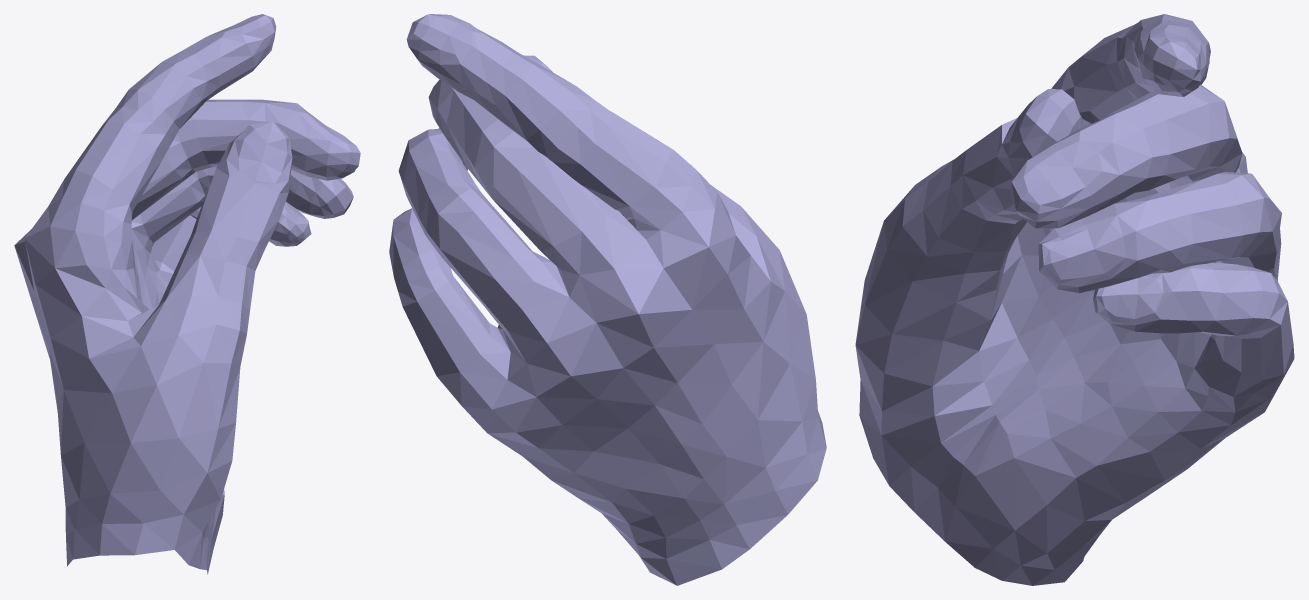
File: frame_0044_source_000044_hand.glb
The picture shows the model from 3 angles, left to right: view 1: azimuth 30°, elevation 25°; view 2: azimuth 150°, elevation 25°; view 3: azimuth 270°, elevation 25°; orthographic projection. The views are drawn at different scales.
Visible parts, largest first — view 1: world; view 2: world; view 3: world.
Boxes of the visible parts, x1,y1,x2,y2 form: world: [14, 14, 360, 574]; world: [389, 14, 826, 585]; world: [855, 14, 1294, 585].
Size of the model in its own units: 0.0982 by 0.1484 by 0.0921.
